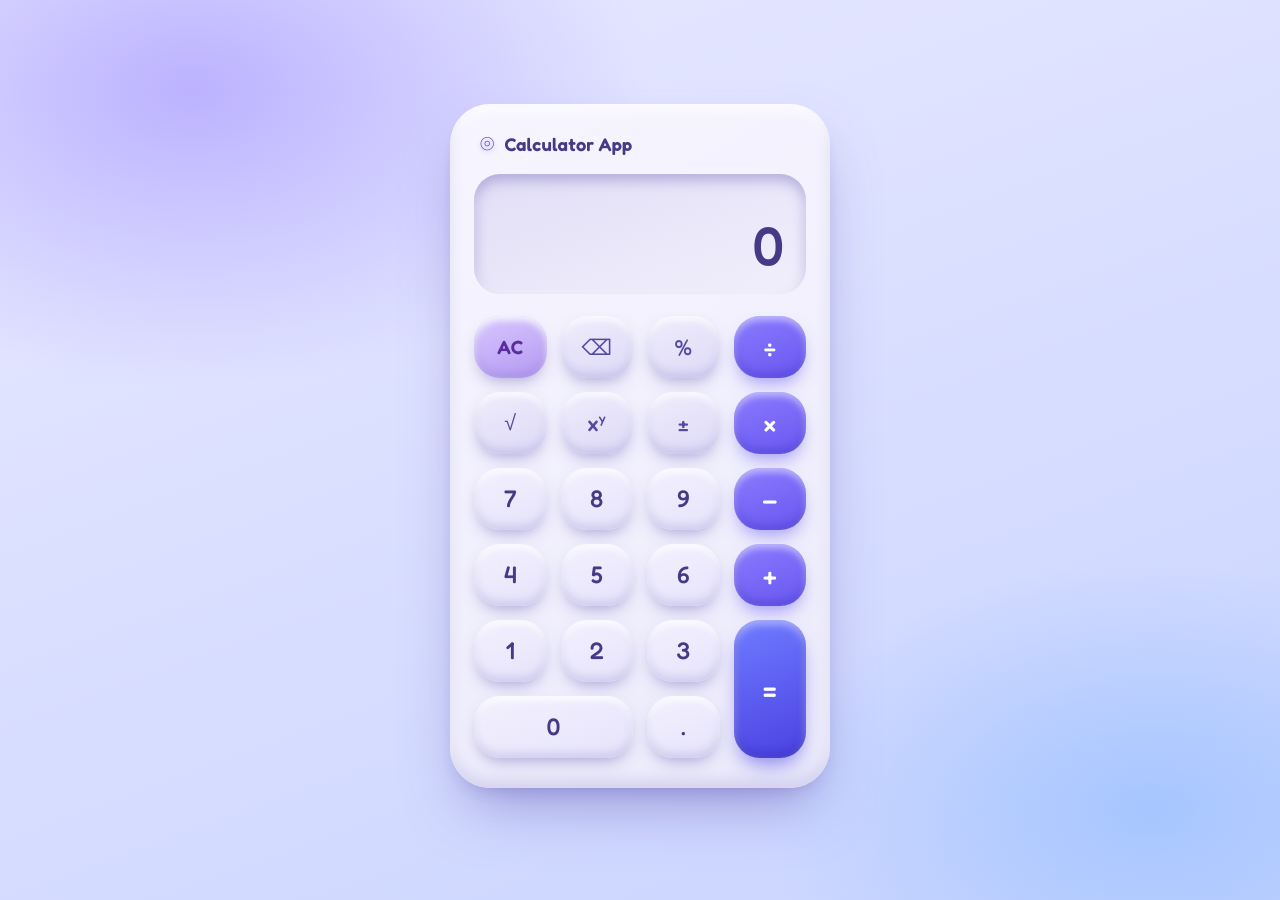
Scenario: <App /> › recovers from an error state on the next entry
Step 1. Click the button "5" → (597, 574), box [560,544,633,606]
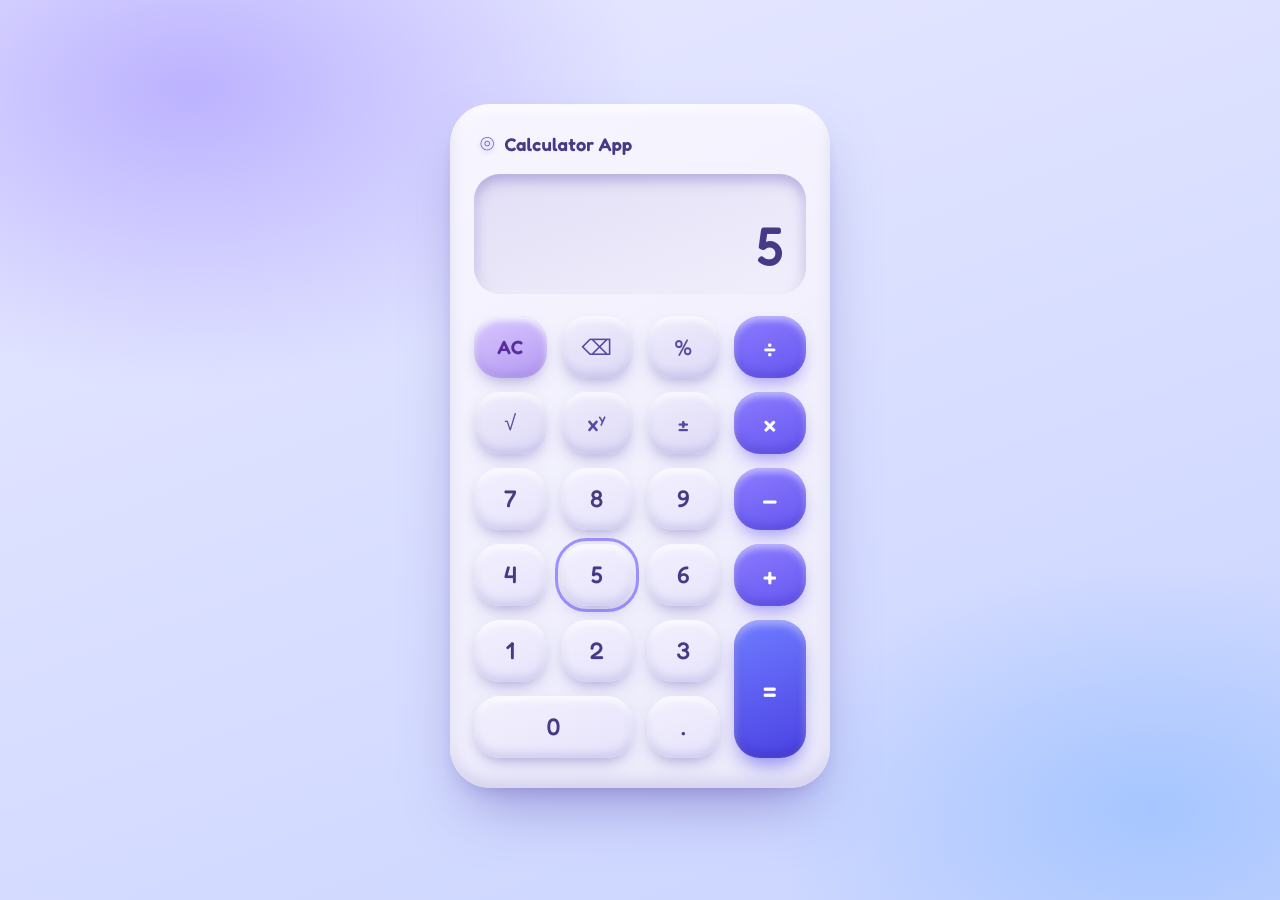
Step 2. Click the button named "Divide" → (770, 346), box [734,316,806,378]
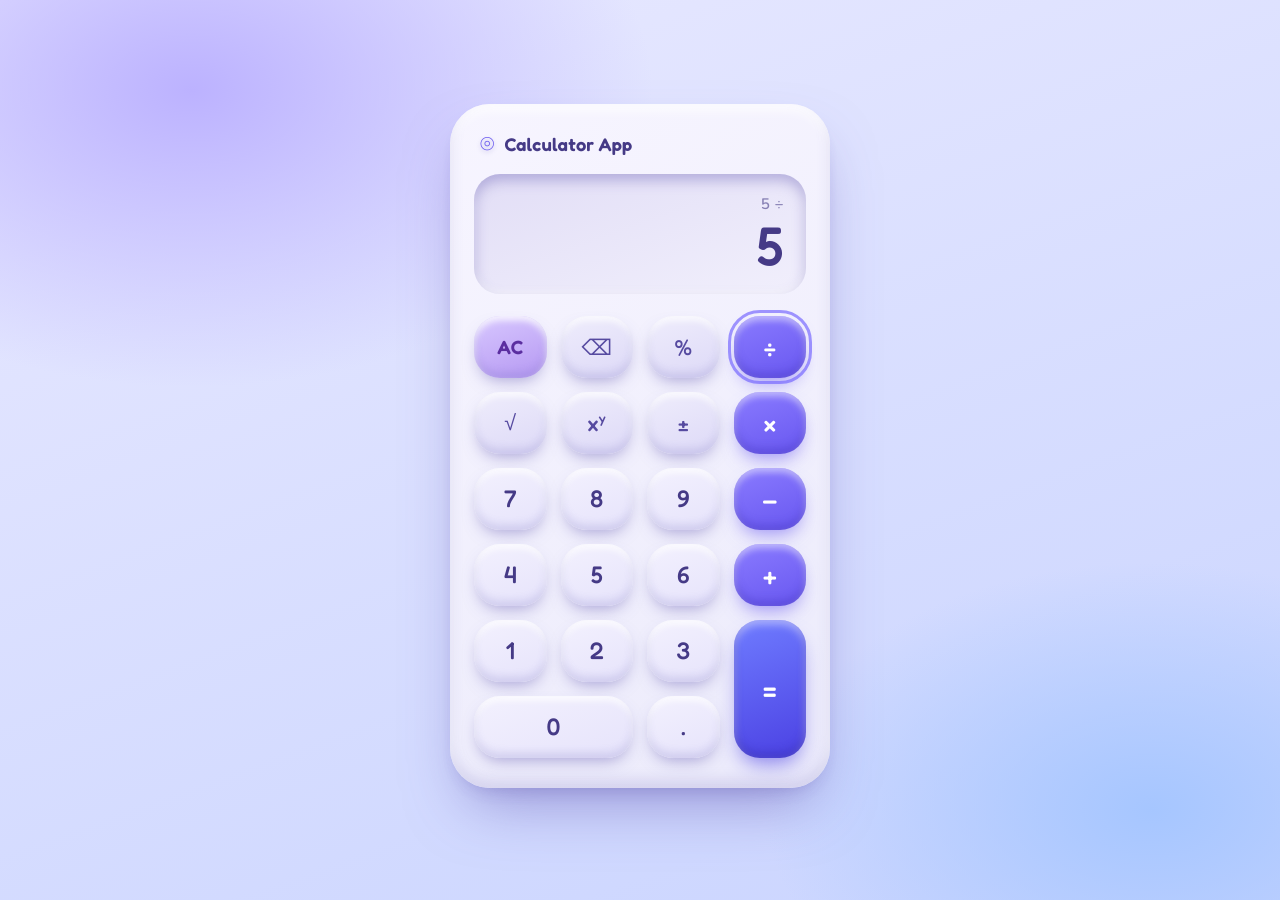
Step 3. Click the button "0" → (554, 726), box [474,696,633,758]
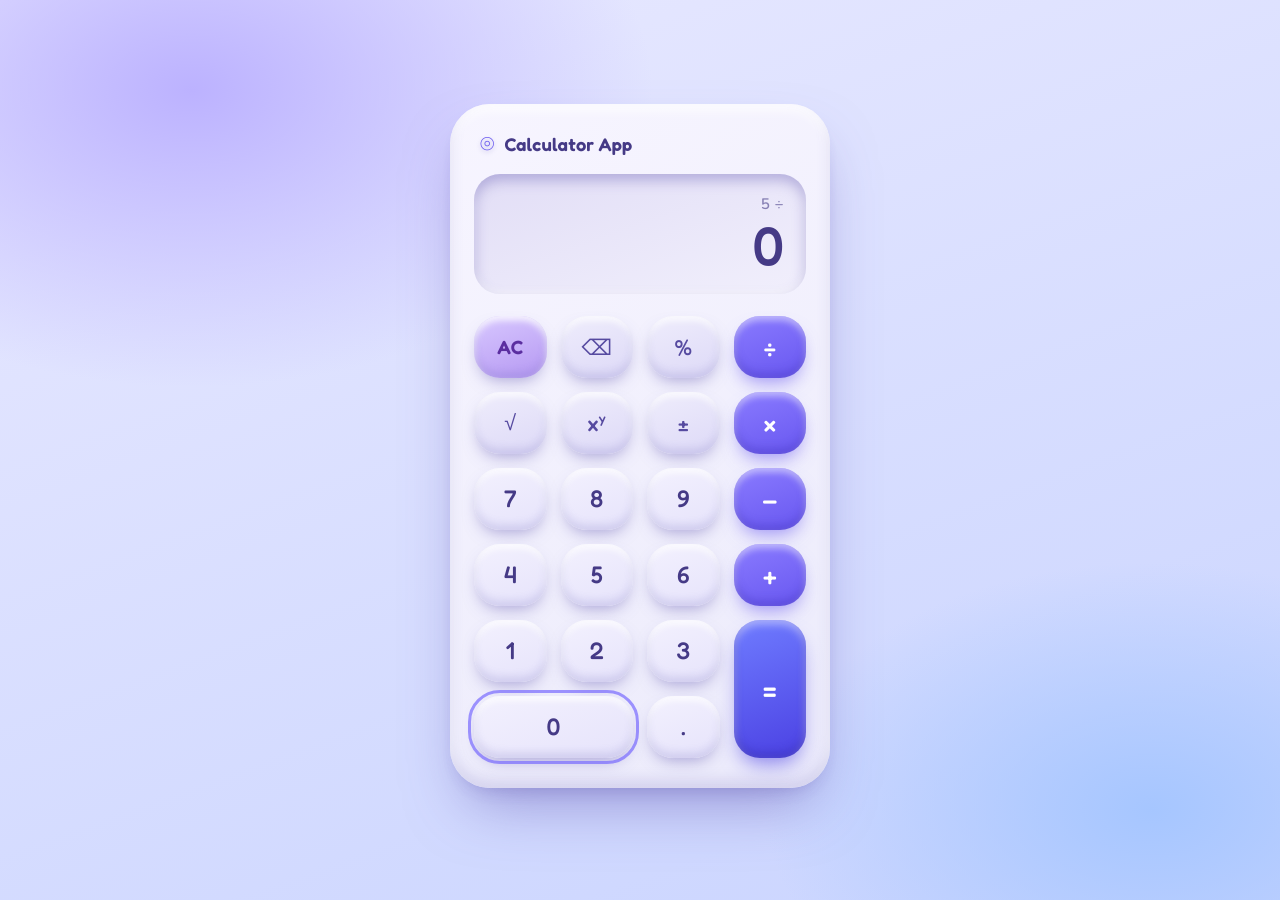
Step 4. Click the button named "Equals" → (770, 688), box [734,620,806,758]
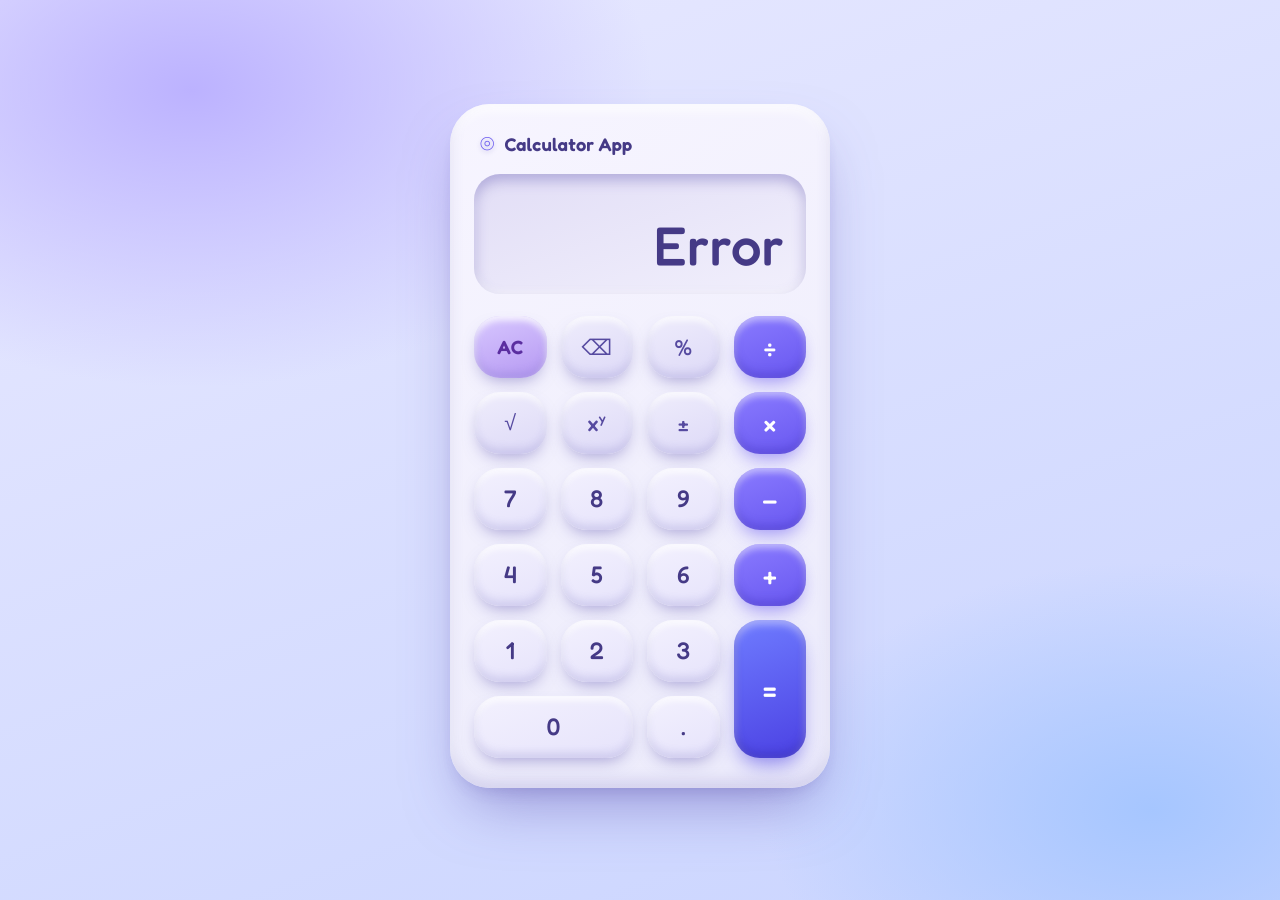
expect the text with test id "display-value" reads "Error": met, box [653,212,784,278]
Step 5. Click the button "9" → (683, 498), box [647,468,720,530]
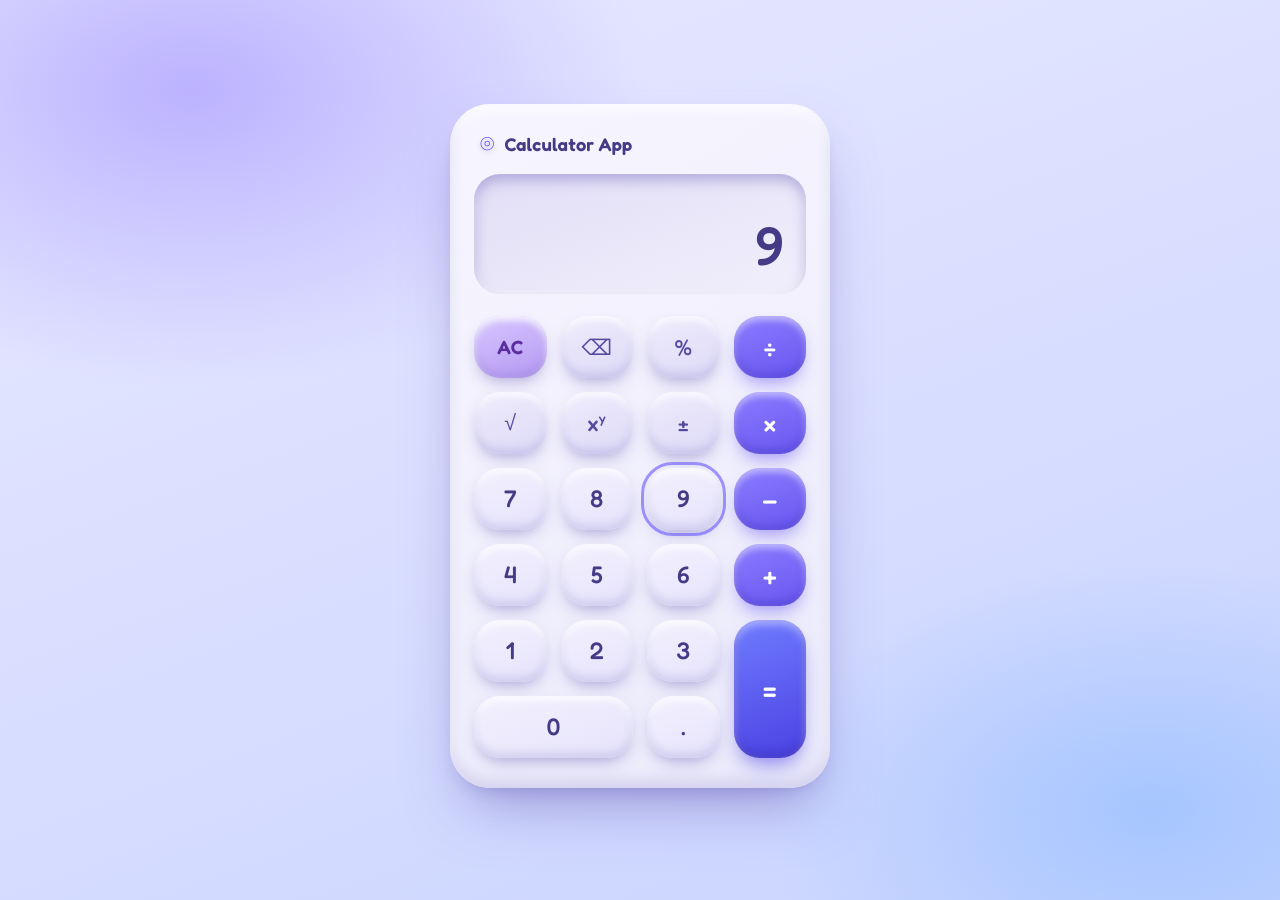
expect the text "Error" is gone: met
expect the text with test id "display-value" reads "9": met, box [755,212,784,278]
